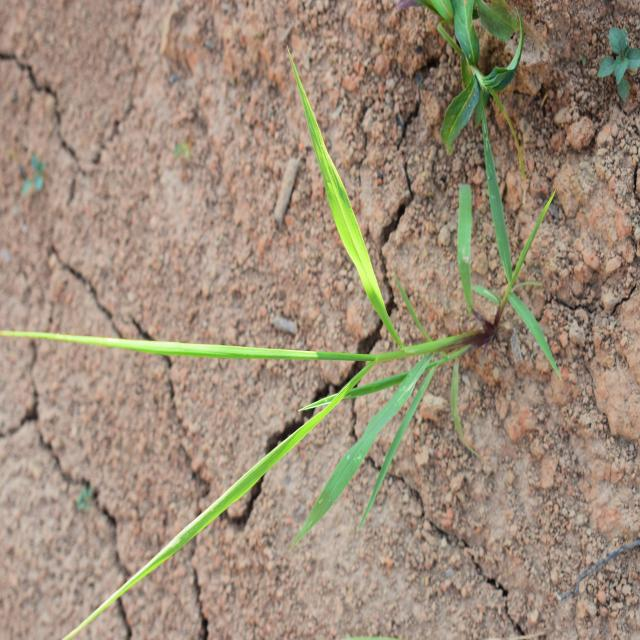green_foxtail: (35, 174, 460, 537)
